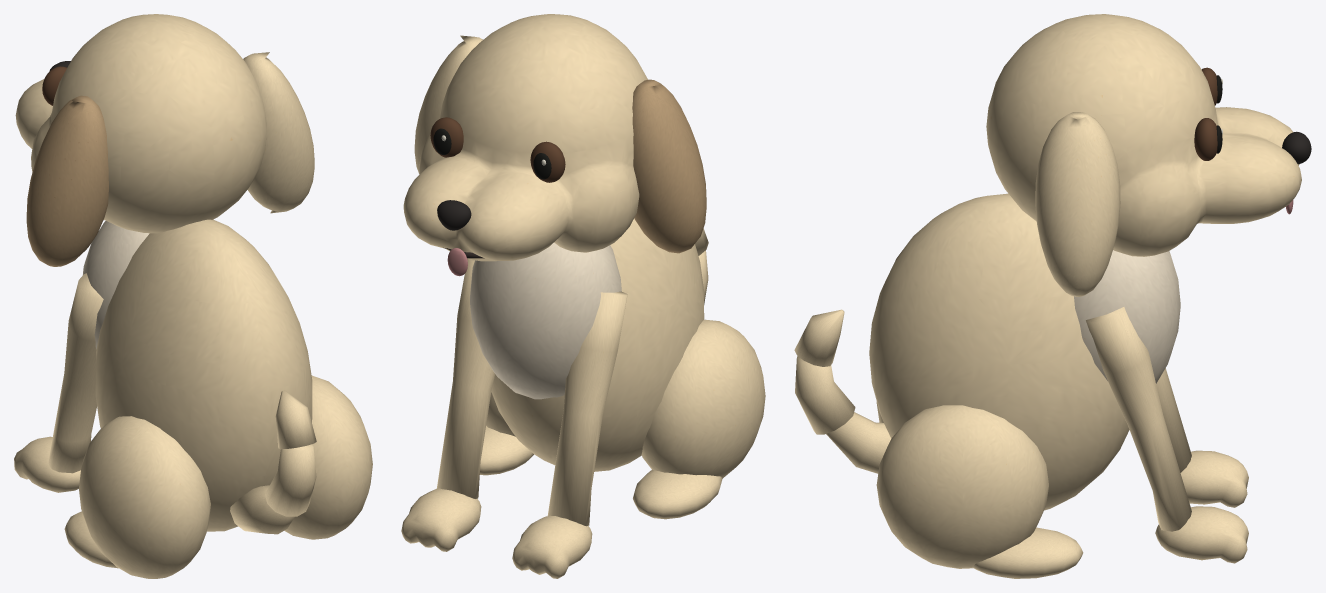
The model's file is dog.glb.
3 renders of one model, left to right at view 1: azimuth 30°, elevation 25°; view 2: azimuth 150°, elevation 25°; view 3: azimuth 270°, elevation 25°, orthographic. The views are drawn at different scales.
Parts seen in each view (by area): view 1: Torso, Head, Haunch_L, Ear_L, Haunch_R, Ear_R, Leg_FL, Chest, Tail_2, Paw_FL, Tail_1, Tail_3 (+2 smaller); view 2: Head, Torso, Chest, Haunch_L, Ear_L, Leg_FL, Leg_FR, Paw_FR, Paw_FL, Paw_BL, Ear_R, Paw_BR (+5 smaller); view 3: Torso, Head, Haunch_R, Ear_R, Leg_FR, Chest, Paw_FR, Paw_BR, Paw_FL, Tail_2, Tail_1, Tail_3 (+3 smaller).
Part boxes in pixels (x1,y1,x2,y2): Torso: (95,219,312,531); Head: (15,14,266,233); Haunch_L: (79,416,210,578); Ear_L: (26,95,108,266); Haunch_R: (284,375,372,539); Ear_R: (243,52,314,213); Leg_FL: (48,273,103,473); Chest: (82,221,149,348); Tail_2: (265,444,316,516); Paw_FL: (14,436,80,492); Tail_1: (230,485,294,534); Tail_3: (275,390,316,449); Head: (403,14,647,261); Torso: (491,218,704,471); Chest: (470,242,621,399); Haunch_L: (641,319,765,478); Ear_L: (632,79,706,253); Leg_FL: (547,291,627,526); Leg_FR: (437,259,495,498); Paw_FR: (401,488,481,551); Paw_FL: (512,515,592,578); Paw_BL: (633,469,722,519); Ear_R: (414,35,482,173); Paw_BR: (480,426,533,475); Torso: (869,193,1129,510); Head: (986,14,1301,256); Haunch_R: (876,405,1048,568); Ear_R: (1035,112,1120,296); Leg_FR: (1086,307,1191,531); Chest: (1074,250,1180,383); Paw_FR: (1155,506,1248,563); Paw_BR: (972,527,1083,578); Paw_FL: (1180,450,1248,507); Tail_2: (795,356,855,434); Tail_1: (826,412,891,473); Tail_3: (794,309,844,366).
Bounding box in the file's own units: 0.364 × 0.6008 × 0.5577.
7 materials, 1 textured.
